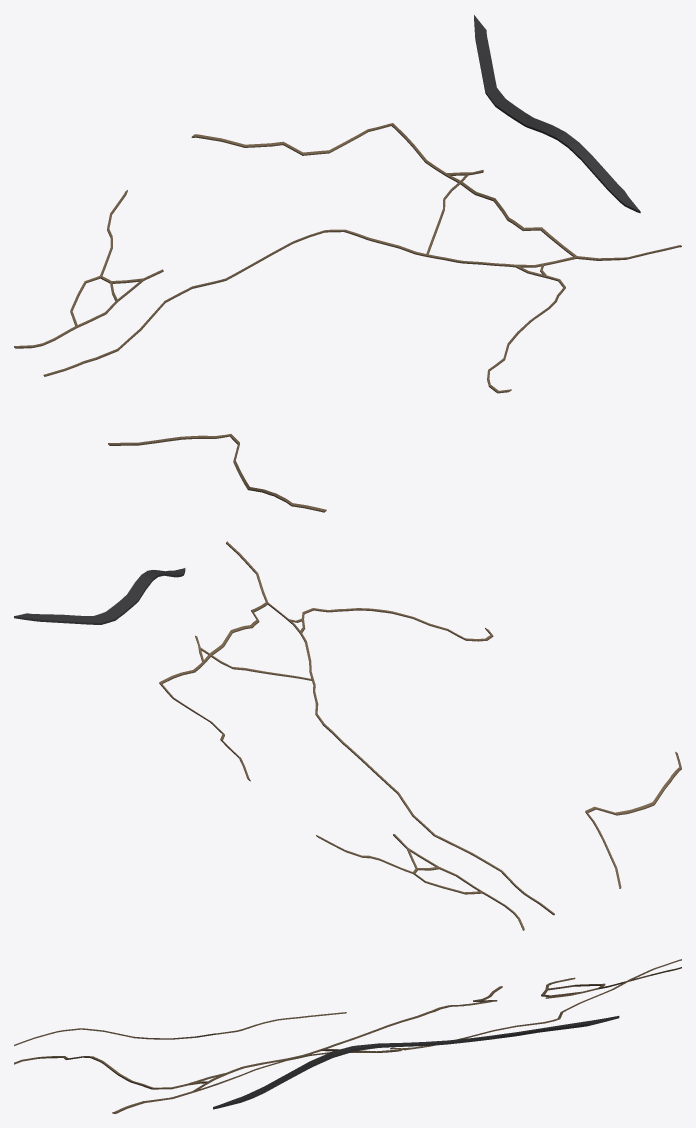
Rendered from 17-109451-59485.dcf392b3.glb.
3 renders of one model, top to bottom at view 1: azimuth 30°, elevation 25°; view 2: azimuth 150°, elevation 25°; view 3: azimuth 270°, elevation 25°, orthographic. The views are drawn at different scales.
Bounding box in the file's own units: 293 × 136 × 292.
